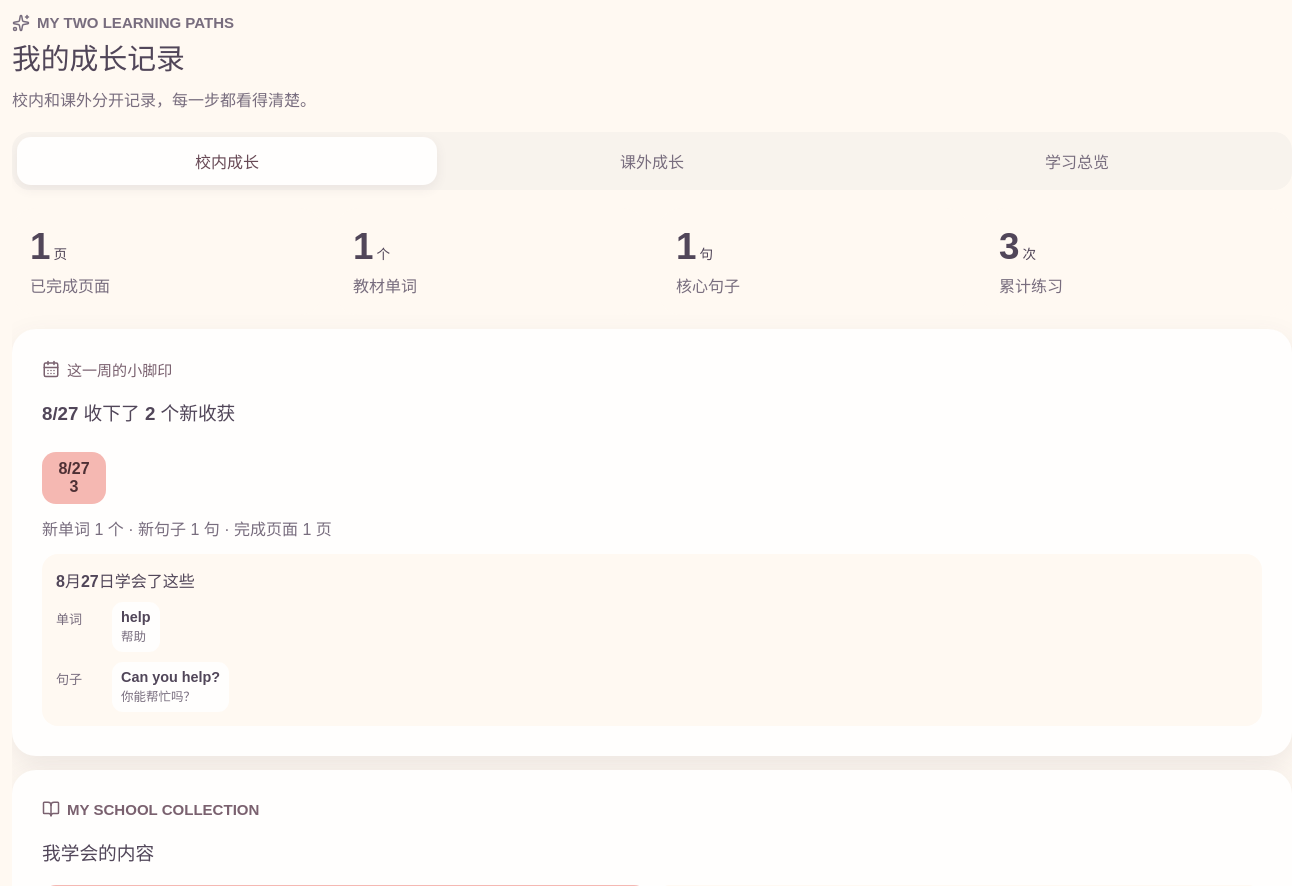
Test: DualTrackGrowth › shows a side-by-side overview without a combined total
Click the tab "学习总览" at (1077, 161), box left=867, top=137, right=1287, bottom=185
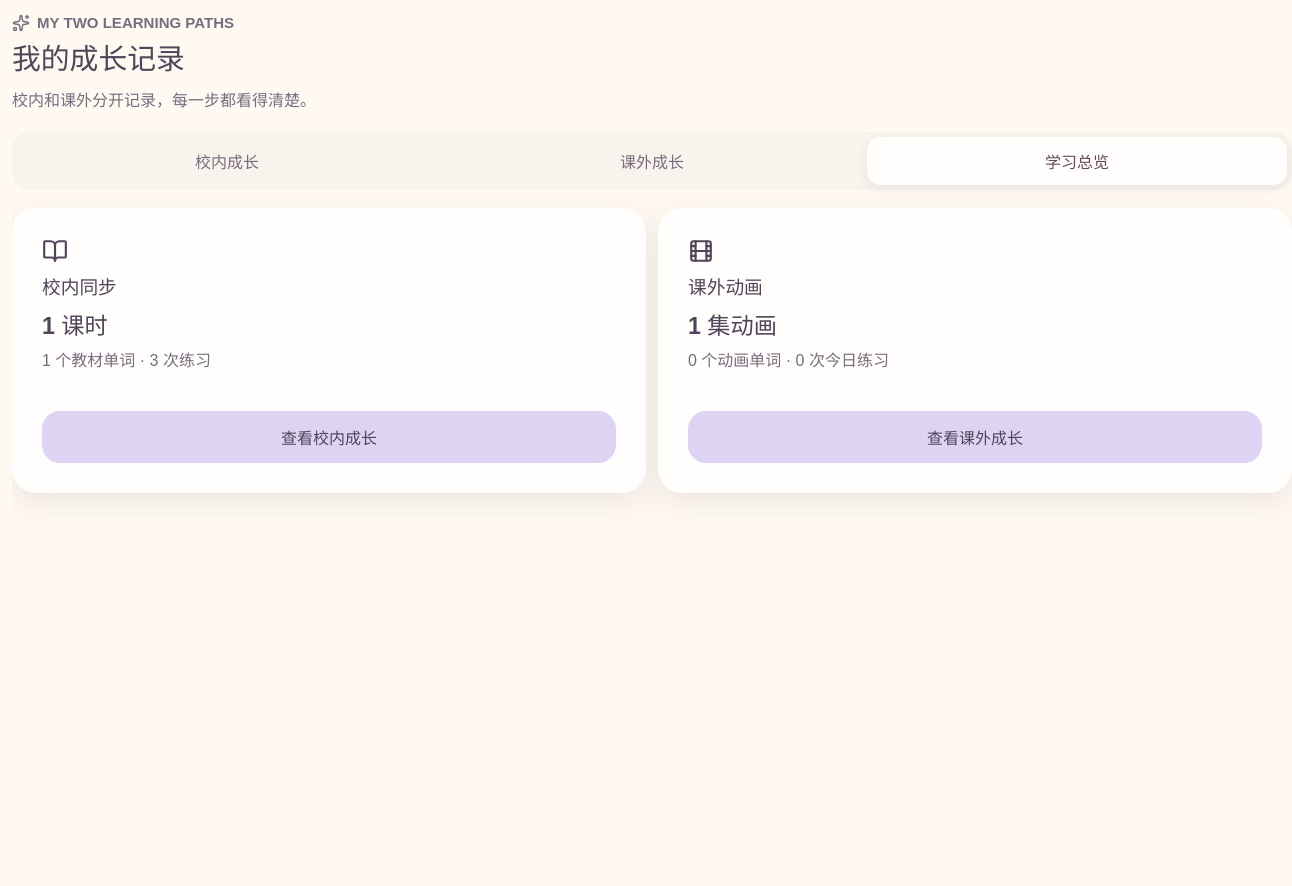
Expected: the element named "校内学习摘要" shows "1 课时", left=12, top=208, right=646, bottom=493
Expected: the element named "课外学习摘要" shows "1 集动画", left=658, top=208, right=1291, bottom=493
